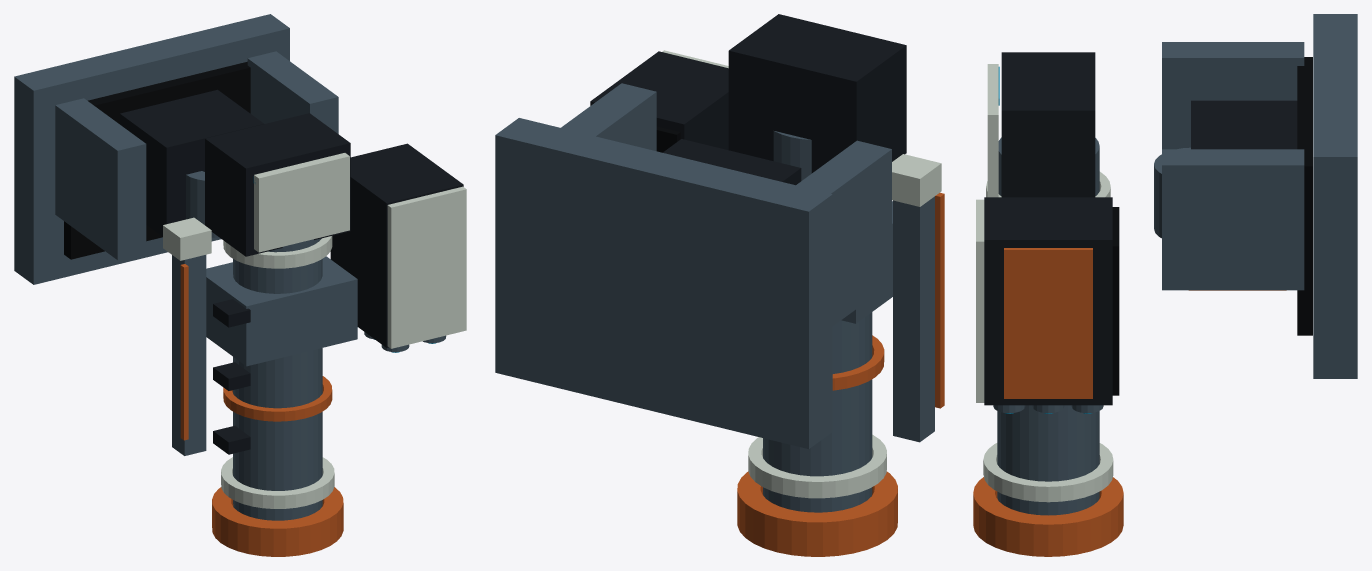
3 views of the same model, side by side, from view 1: azimuth 30°, elevation 25°; view 2: azimuth 150°, elevation 25°; view 3: azimuth 270°, elevation 25° (orthographic). The views are drawn at different scales.
Visible parts, largest first — view 1: Mount_TOP_SNAPPad, Barrel_Hollow, Pedestal_Cheek_L, Cassette_Lid, Barrel_ReinforcedCollar, Cassette_Housing, Breech_Block, Pedestal_Spine, Breech_TopPlate, Left_GuideRail, Barrel_MuzzleBrake, Mount_RubberIsolator (+10 smaller); view 2: Mount_TOP_SNAPPad, Breech_Block, Barrel_Hollow, Pedestal_Cheek_L, Left_GuideRail, Barrel_MuzzleBrake, Cassette_Housing, Pedestal_Cheek_R, Barrel_FrontWearRing, Pedestal_Spine, Left_RearLock, Left_GuideCopperInlay (+2 smaller); view 3: Pedestal_Cheek_R, Mount_TOP_SNAPPad, Breech_Block, Cassette_Housing, Cassette_CopperSpine, Pedestal_Cheek_L, Barrel_Hollow, Barrel_MuzzleBrake, Pedestal_Spine, Mount_RubberIsolator, Barrel_FrontWearRing, Cassette_Lid (+3 smaller).
Boxes of the visible parts, box(x1,y1,x2,y2) form: Mount_TOP_SNAPPad: box(14, 14, 289, 284); Barrel_Hollow: box(233, 238, 322, 520); Pedestal_Cheek_L: box(55, 98, 146, 260); Cassette_Lid: box(387, 186, 466, 348); Barrel_ReinforcedCollar: box(206, 256, 357, 366); Cassette_Housing: box(330, 143, 463, 347); Breech_Block: box(205, 113, 350, 256); Pedestal_Spine: box(120, 89, 263, 236); Breech_TopPlate: box(254, 153, 349, 252); Left_GuideRail: box(172, 255, 206, 455); Barrel_MuzzleBrake: box(212, 487, 343, 556); Mount_RubberIsolator: box(64, 61, 250, 259); Mount_TOP_SNAPPad: box(495, 118, 832, 449); Breech_Block: box(728, 14, 906, 173); Barrel_Hollow: box(763, 131, 872, 512); Pedestal_Cheek_L: box(796, 140, 891, 325); Left_GuideRail: box(893, 196, 934, 442); Barrel_MuzzleBrake: box(737, 471, 897, 556); Cassette_Housing: box(590, 51, 728, 150); Pedestal_Cheek_R: box(561, 83, 656, 151); Barrel_FrontWearRing: box(748, 434, 886, 498); Pedestal_Spine: box(663, 139, 801, 185); Left_RearLock: box(892, 154, 941, 206); Left_GuideCopperInlay: box(935, 192, 944, 408); Pedestal_Cheek_R: box(1162, 149, 1304, 290); Mount_TOP_SNAPPad: box(1313, 14, 1357, 378); Breech_Block: box(1001, 52, 1095, 197); Cassette_Housing: box(984, 197, 1112, 405); Cassette_CopperSpine: box(1004, 248, 1092, 398); Pedestal_Cheek_L: box(1162, 42, 1304, 149); Barrel_Hollow: box(997, 137, 1099, 515); Barrel_MuzzleBrake: box(973, 477, 1123, 556); Pedestal_Spine: box(1191, 100, 1297, 149); Mount_RubberIsolator: box(1297, 57, 1312, 335); Barrel_FrontWearRing: box(983, 443, 1113, 502); Cassette_Lid: box(976, 199, 984, 402).
Bounding box in the file's own units: 0.857 × 1.1 × 0.864.
